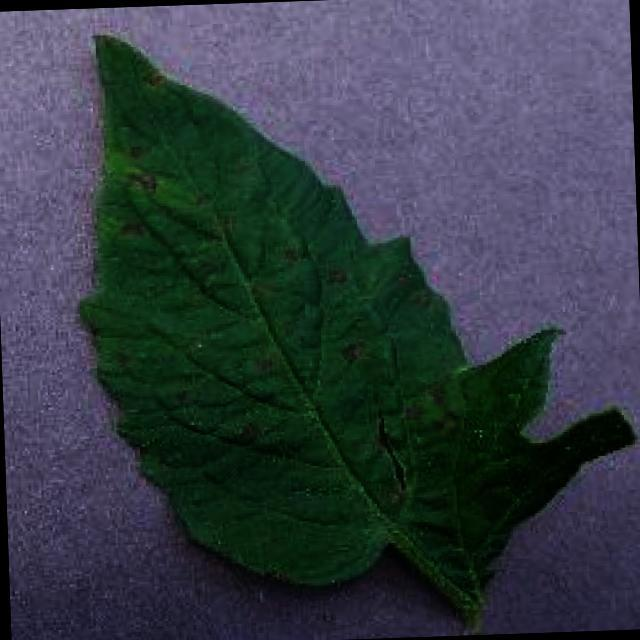Tomato Septoria spot leaf: (75, 9, 639, 593)
